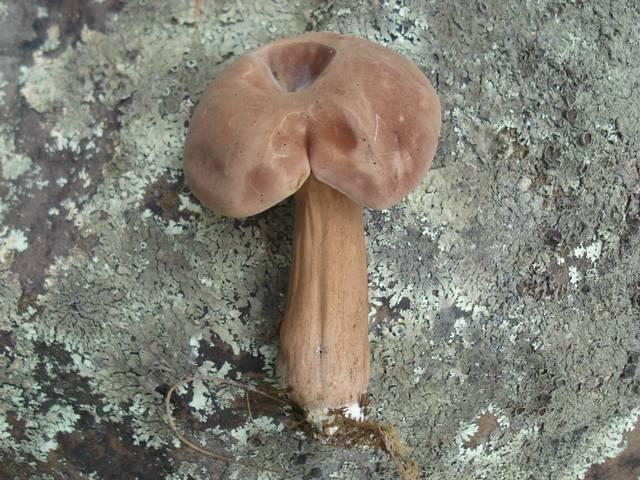Non-edible Mushroom: (181, 29, 442, 434)
